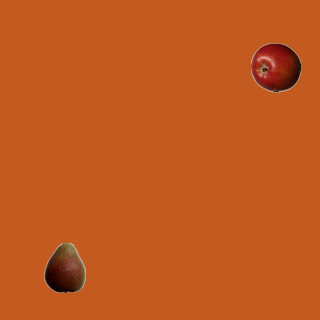Apple Braeburn: (250, 42, 300, 92)
Pear Forelle: (39, 242, 89, 292)
